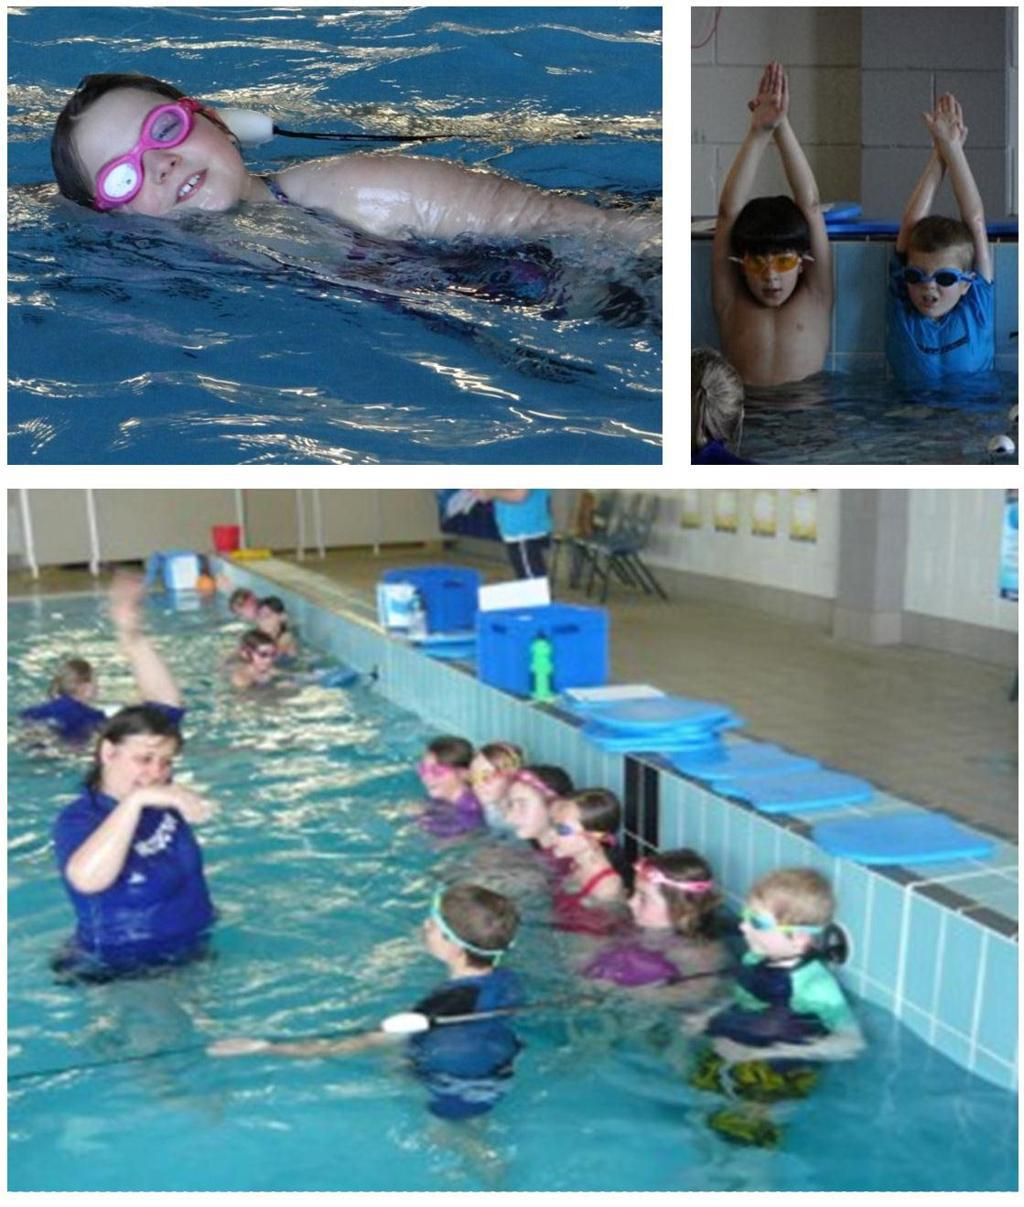face: (64, 82, 246, 222), (112, 729, 177, 798), (906, 248, 963, 319), (744, 252, 799, 309), (738, 897, 785, 960), (626, 873, 667, 930), (510, 780, 548, 841), (469, 752, 506, 804), (424, 901, 453, 964), (551, 812, 585, 859), (422, 753, 455, 799), (257, 606, 280, 633), (253, 645, 276, 672), (85, 671, 100, 700)
